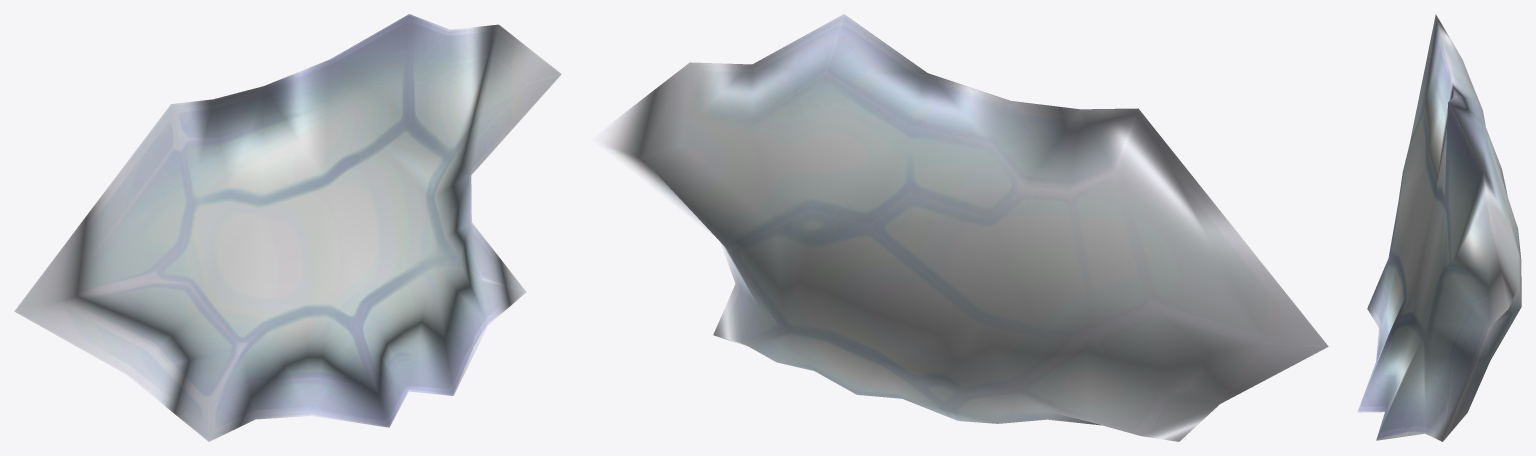
File: item_weashimgm2501-et06.glb
3 views of the same model, side by side, from view 1: azimuth 30°, elevation 25°; view 2: azimuth 150°, elevation 25°; view 3: azimuth 270°, elevation 25° (orthographic). The views are drawn at different scales.
Visible parts, largest first — view 1: FlyffMesh; view 2: FlyffMesh; view 3: FlyffMesh.
Part boxes in pixels (left/top/right/bottom): FlyffMesh: left=14, top=14, right=561, bottom=441; FlyffMesh: left=590, top=14, right=1328, bottom=441; FlyffMesh: left=1357, top=14, right=1521, bottom=441.
Bounding box in the file's own units: 0.9364 × 0.5498 × 0.24.
1 material, 1 textured.
